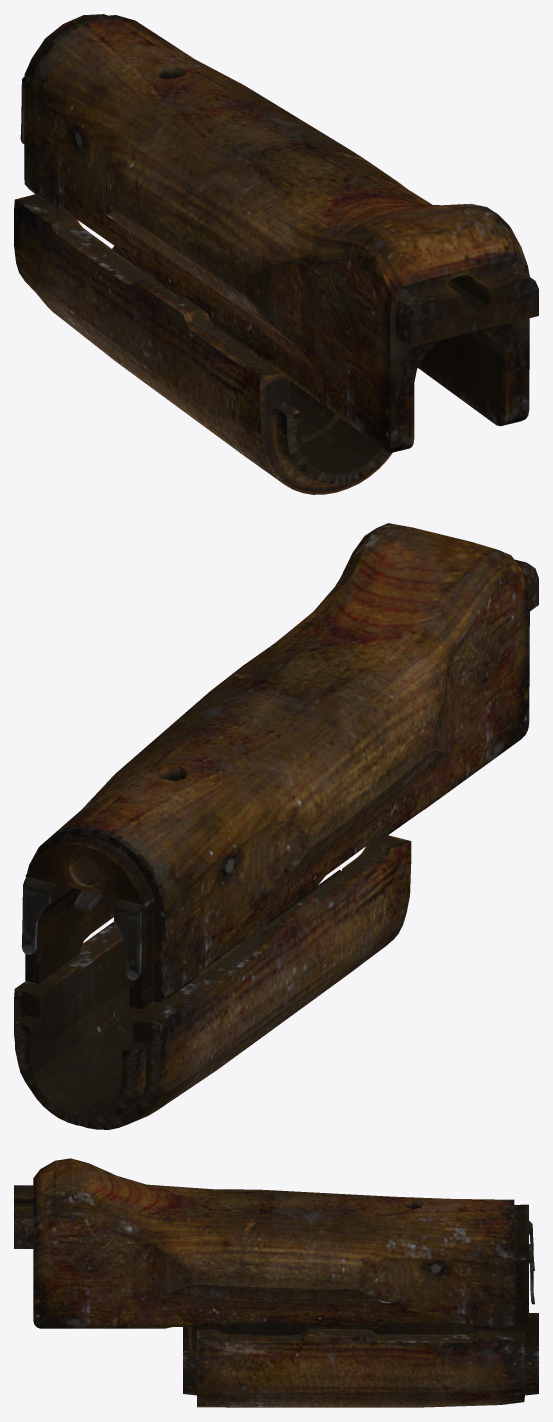
3 renders of one model, top to bottom at view 1: azimuth 30°, elevation 25°; view 2: azimuth 150°, elevation 25°; view 3: azimuth 270°, elevation 25°, orthographic. The views are drawn at different scales.
Visible parts, largest first — view 1: TW_59d64f2f86f77417193ef8b3_PZ_Import; view 2: TW_59d64f2f86f77417193ef8b3_PZ_Import; view 3: TW_59d64f2f86f77417193ef8b3_PZ_Import.
Part boxes in pixels (<box>): TW_59d64f2f86f77417193ef8b3_PZ_Import: <box>14,14,538,494</box>; TW_59d64f2f86f77417193ef8b3_PZ_Import: <box>14,523,538,1129</box>; TW_59d64f2f86f77417193ef8b3_PZ_Import: <box>14,1158,538,1407</box>.
Size of the model in its own units: 0.0267 by 0.0962 by 0.0459.
1 material, 1 textured.
